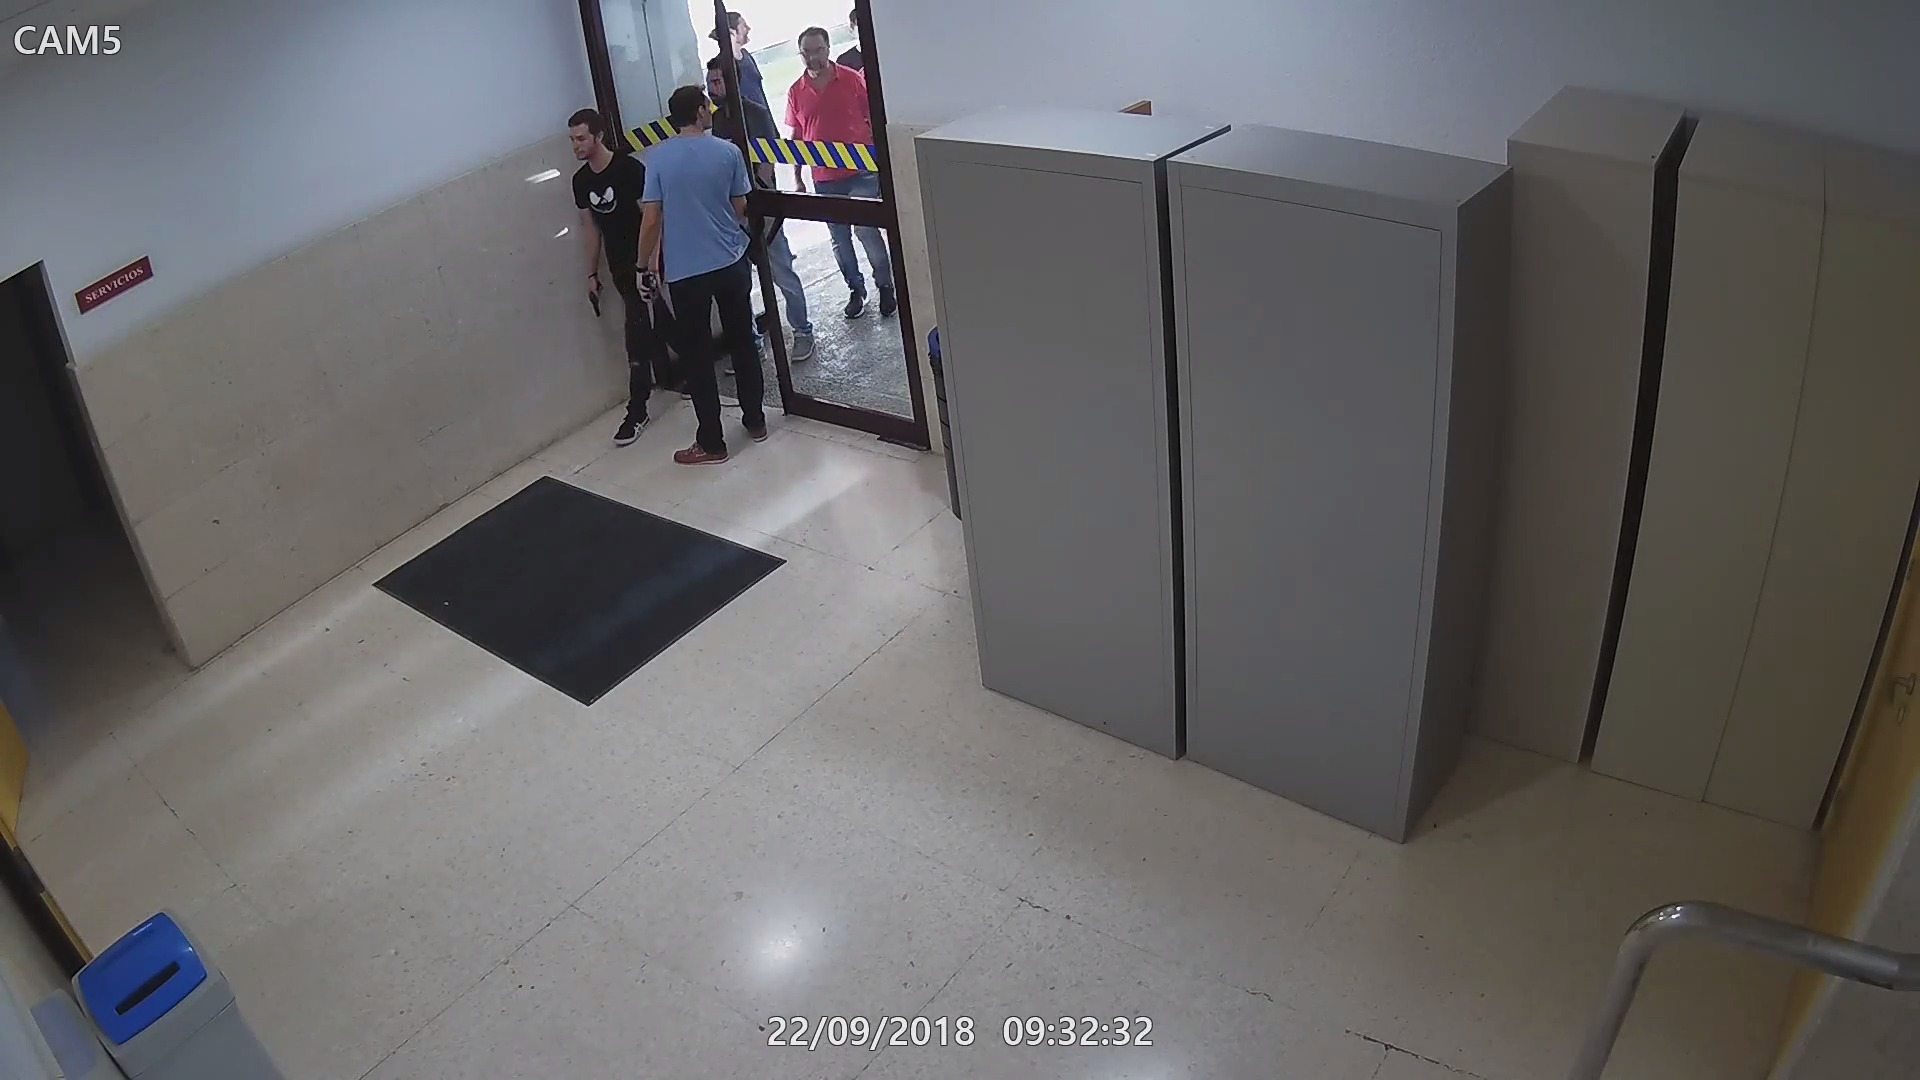Handgun: (634, 268, 663, 334), (583, 272, 609, 316)
Knife: (637, 268, 666, 338)
